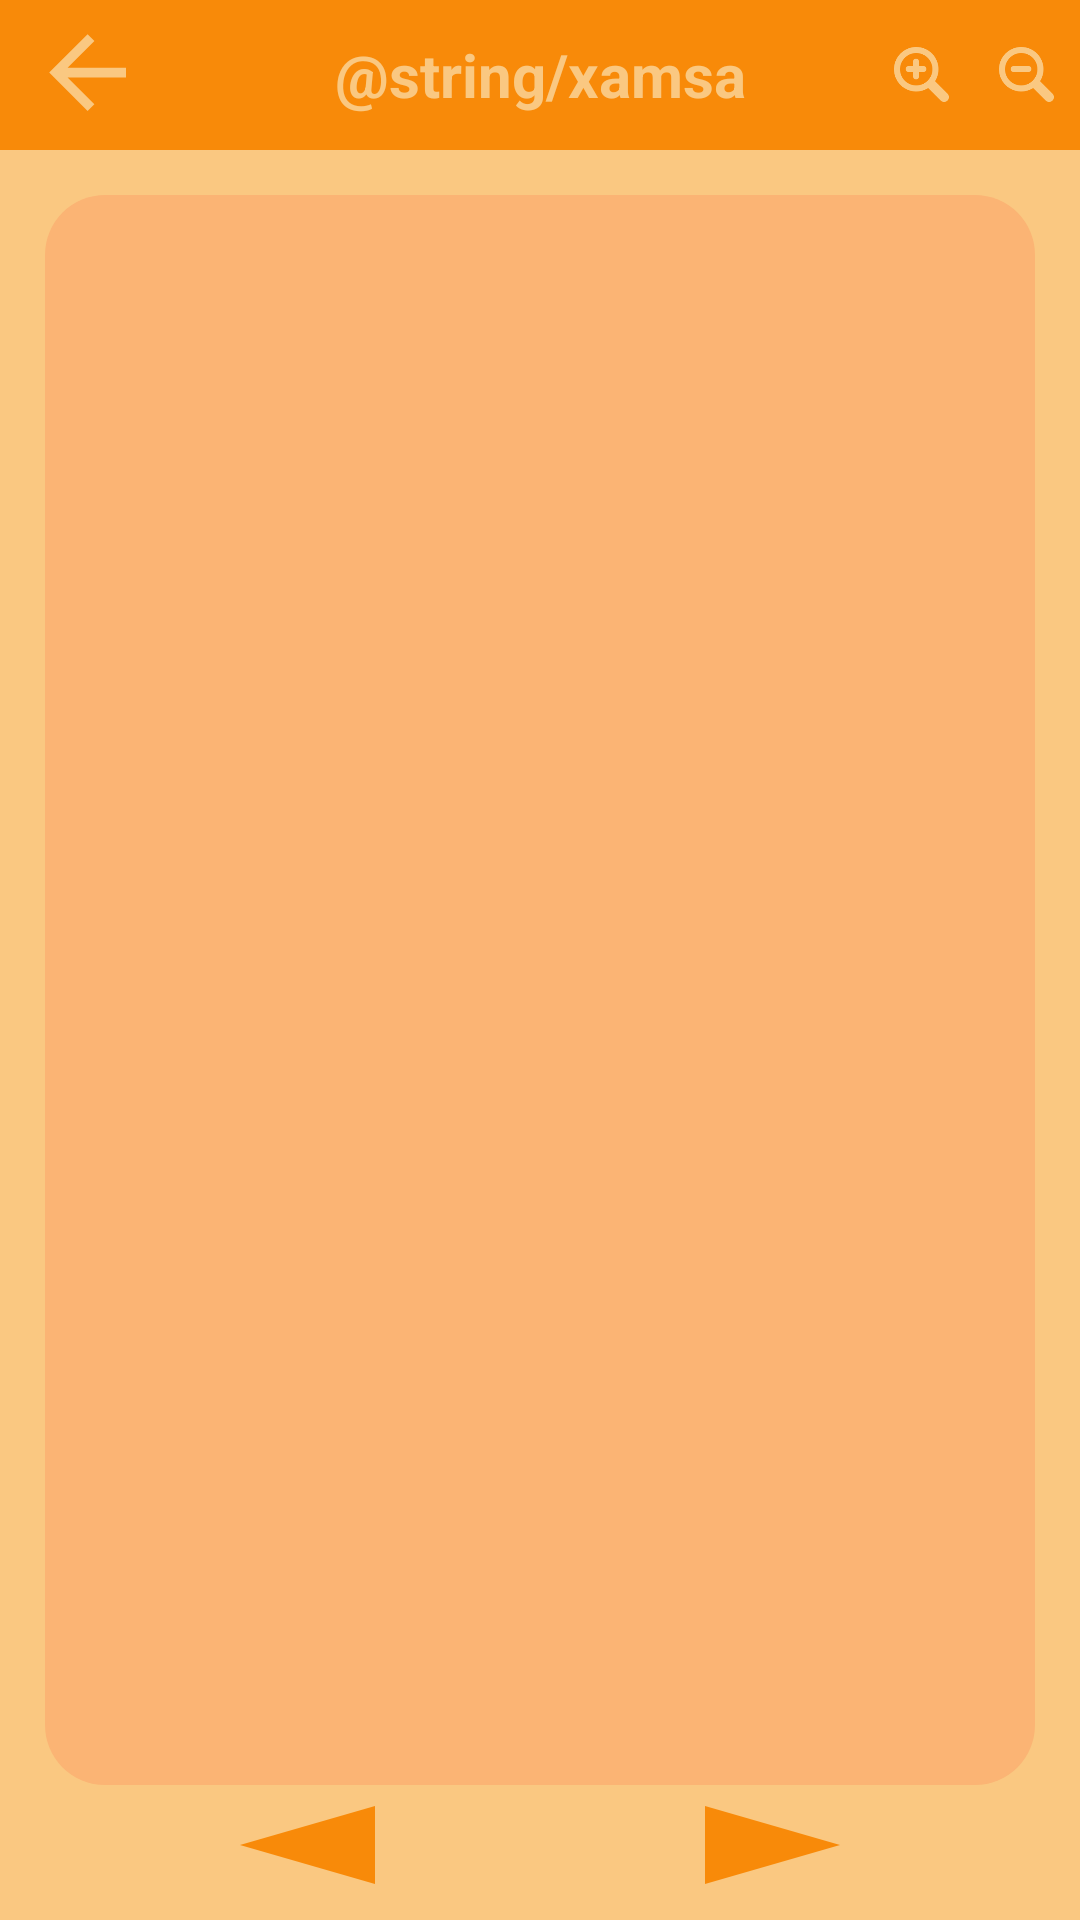

Icons on this 1080x1920 Android screen, each with the point to tap as [x,y]:
arrow back: [87,72]
minus: [1026,74]
next: [772,1845]
plus: [921,74]
previous: [308,1845]
